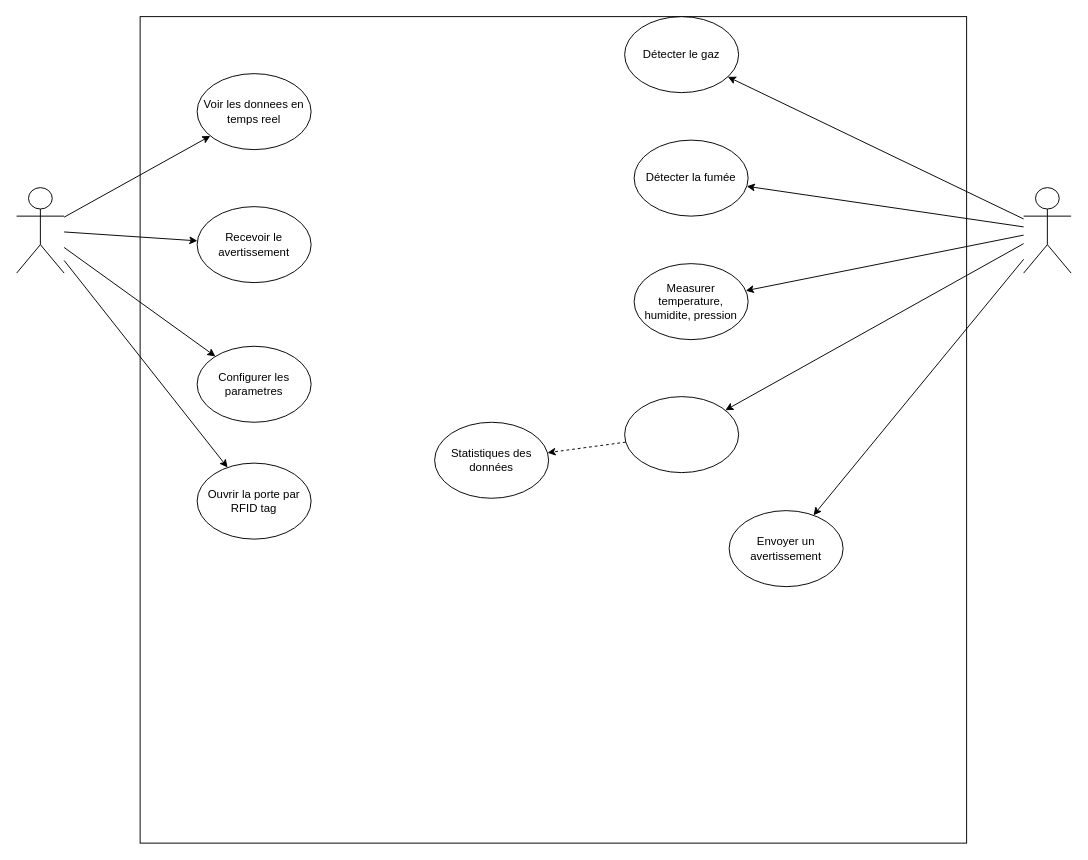
The diagram is 1088 pixels wide and 860 high, and some of its shapes have lost their labels. Here are the shapes that lost their labels. From the top down, the centre of each, then its label:
At (40,230): "Client".
At (1047,230): "System".
At (681,434): "Stocker les données".
